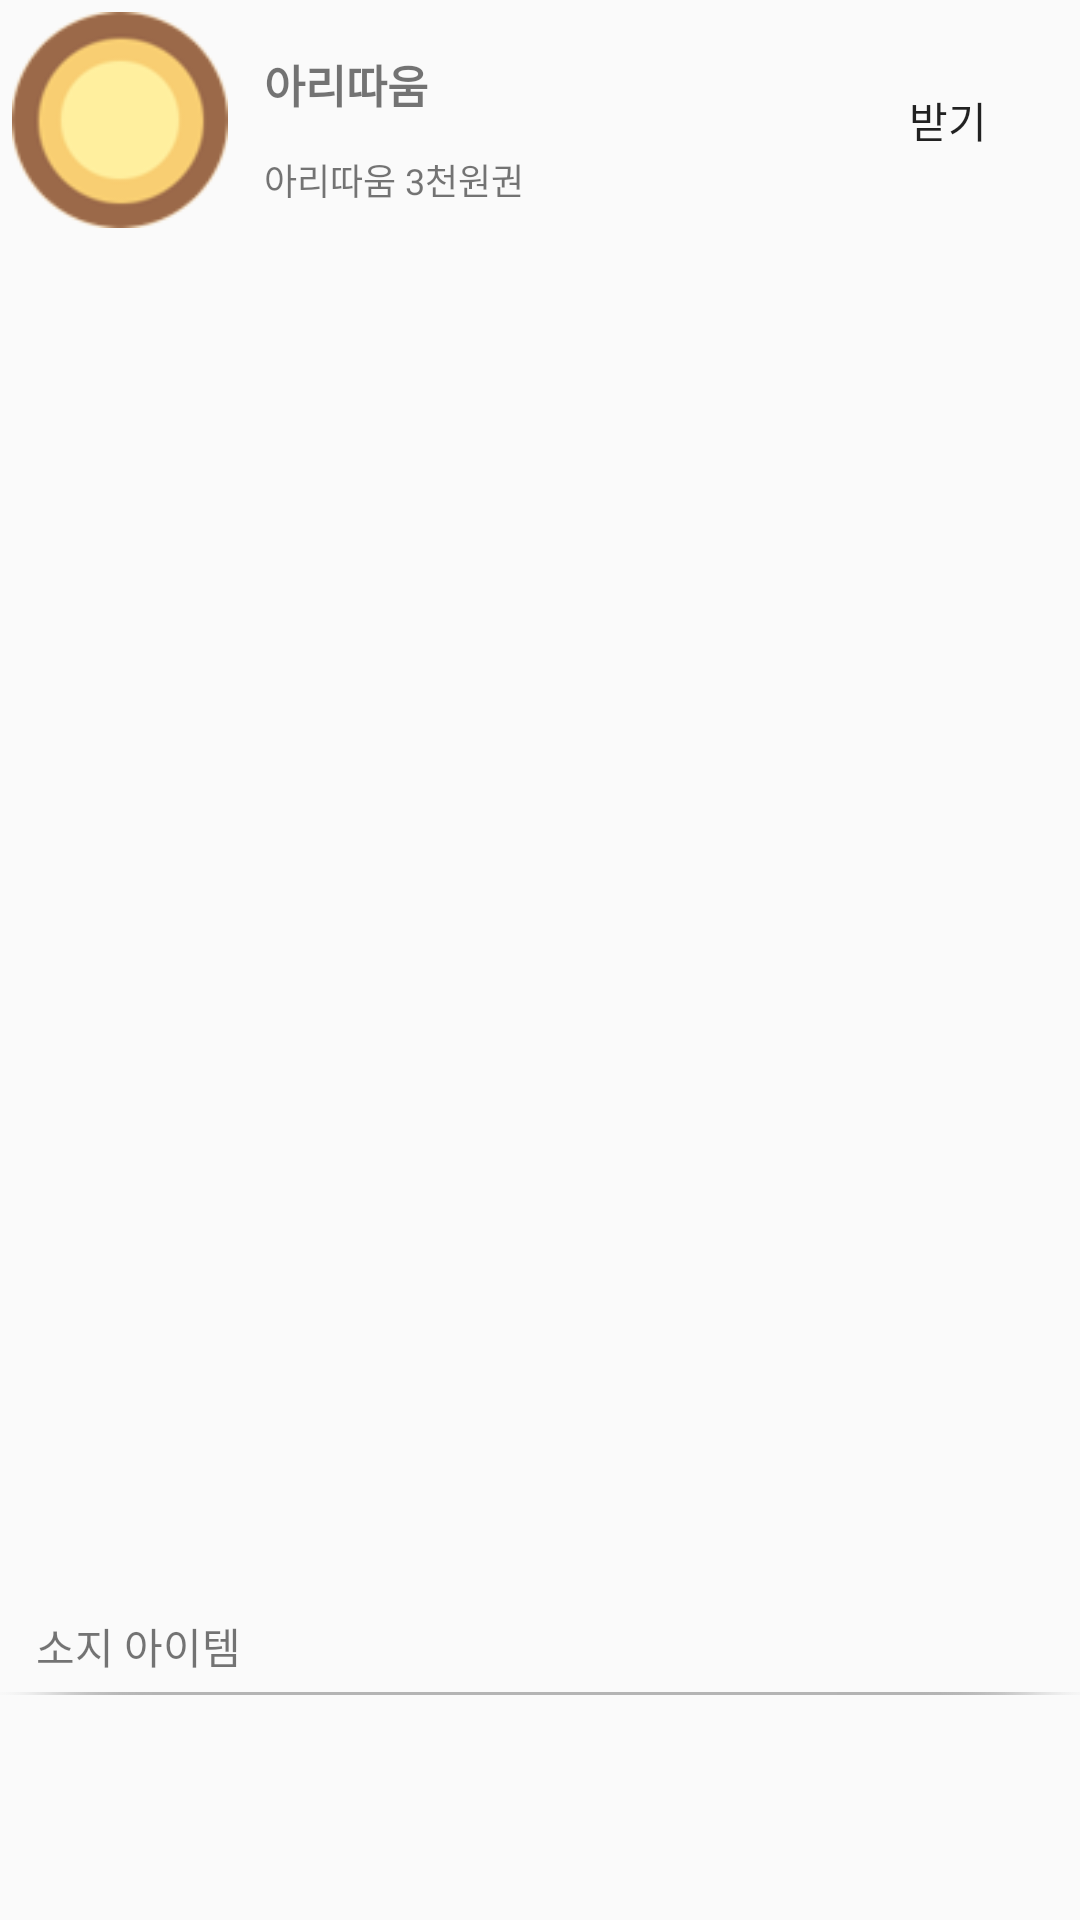

Icon bounding boxes for this 1080 x 1920 phone screenshot, format [left=x1, top=y1, right=x2, bottom=y2]:
coin: [left=12, top=12, right=228, bottom=228]
